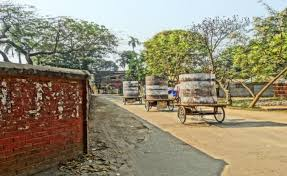wheelbarrow: (174, 103, 230, 124), (143, 99, 175, 113), (121, 95, 143, 106)
